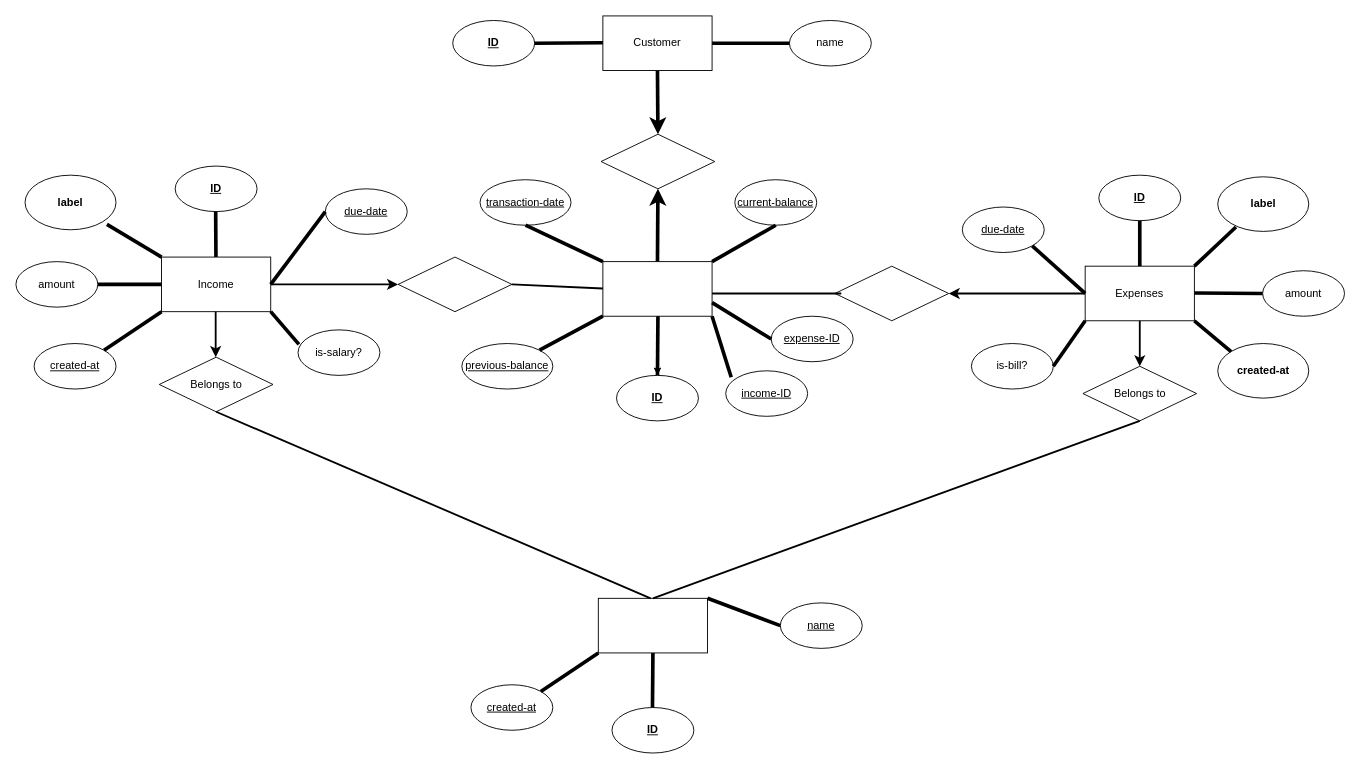
Some shapes in this 1360 by 769 pixel diagram are drawn without their labels. The box of each missing label's shape, as (x1, y1, x2, y2) in pixels:
Balance: (602, 261, 712, 316)
Category: (597, 597, 708, 653)
Has a: (600, 133, 715, 189)
Pays: (834, 265, 949, 321)
Receives: (397, 256, 512, 312)
